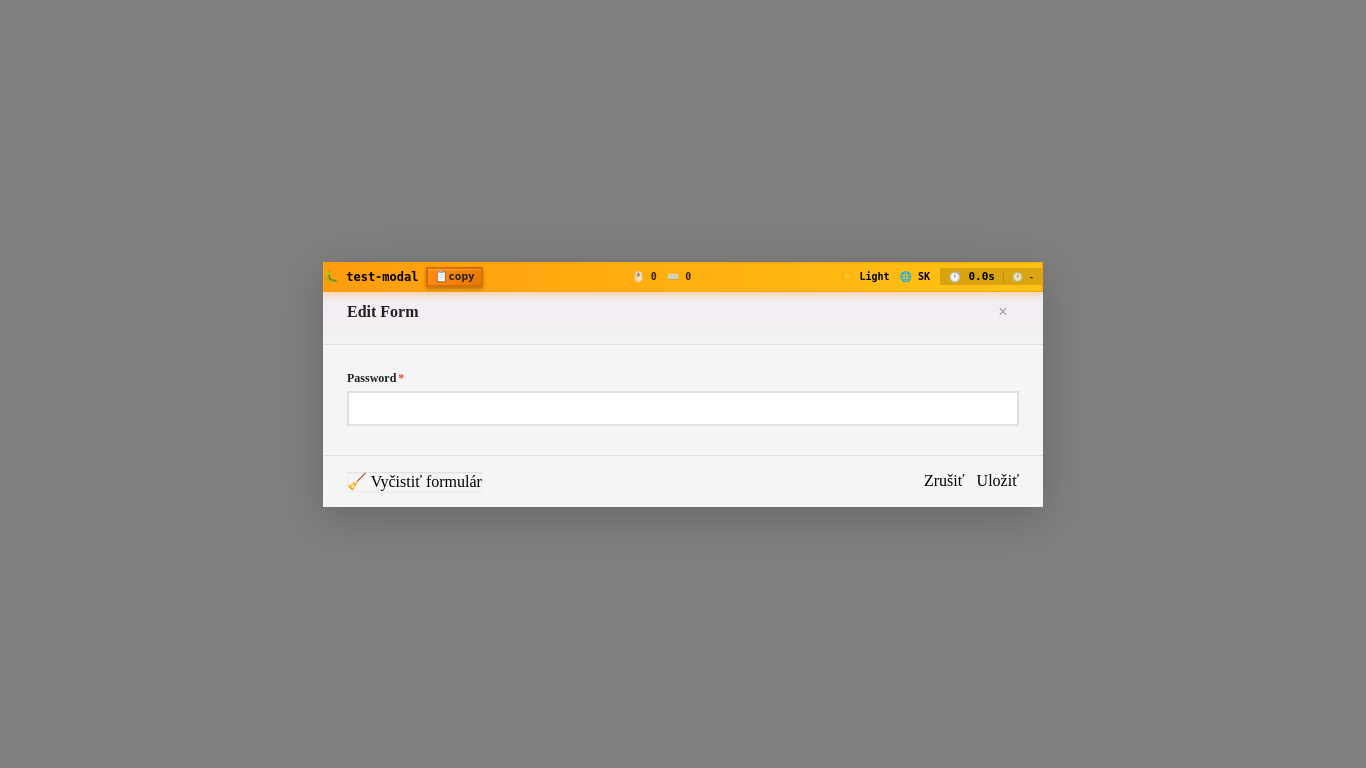
Test case: SectionEditModal › Validation › Validation error clears when field is corrected
Note: Enter invalid value
Type "short" into the field labelled "Password*".
click(683, 408); type("short")  # box [347,390,1019,426]
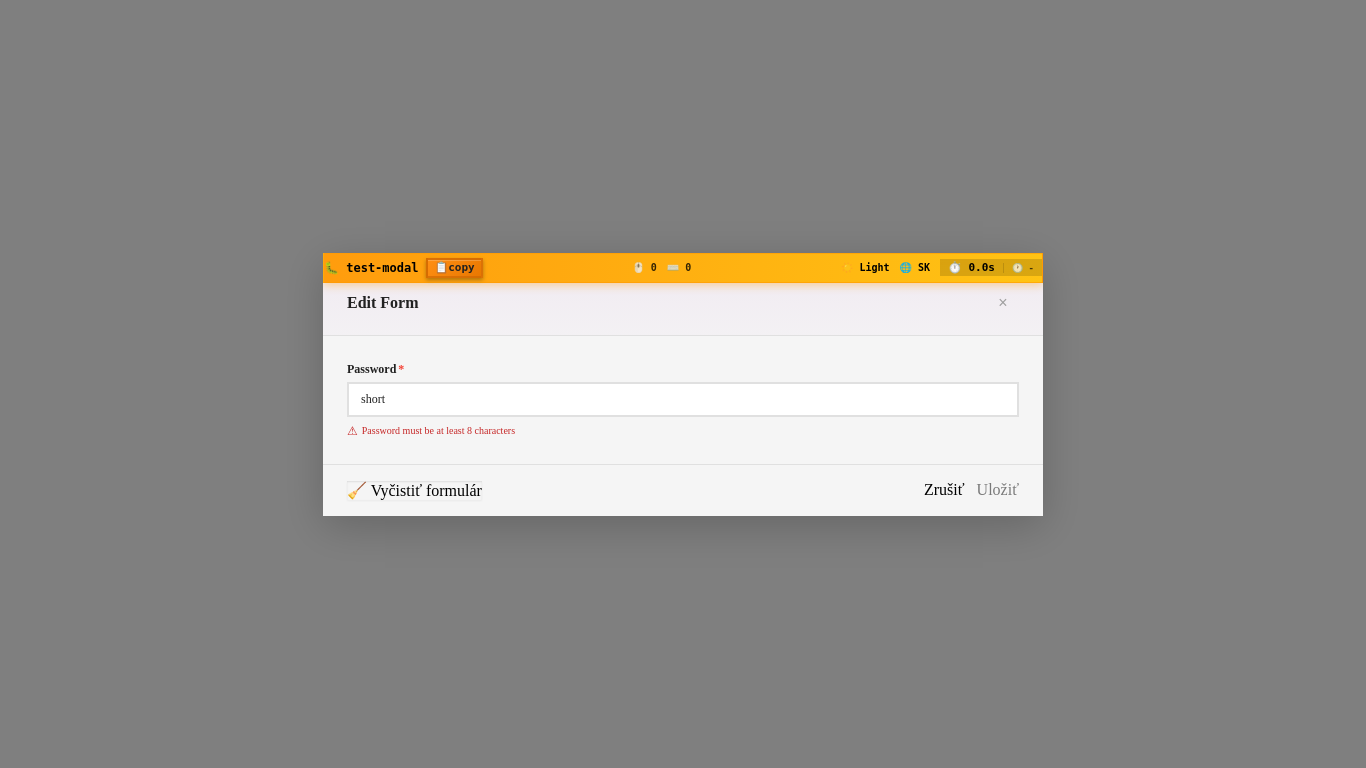
Expected: the text "Password must be at least 8 characters" is shown, [362,425,515,436]
Note: Correct the value
Replace the text in the field labelled "Password*" with "validpassword123" at (683, 399), box [347,382,1019,416]
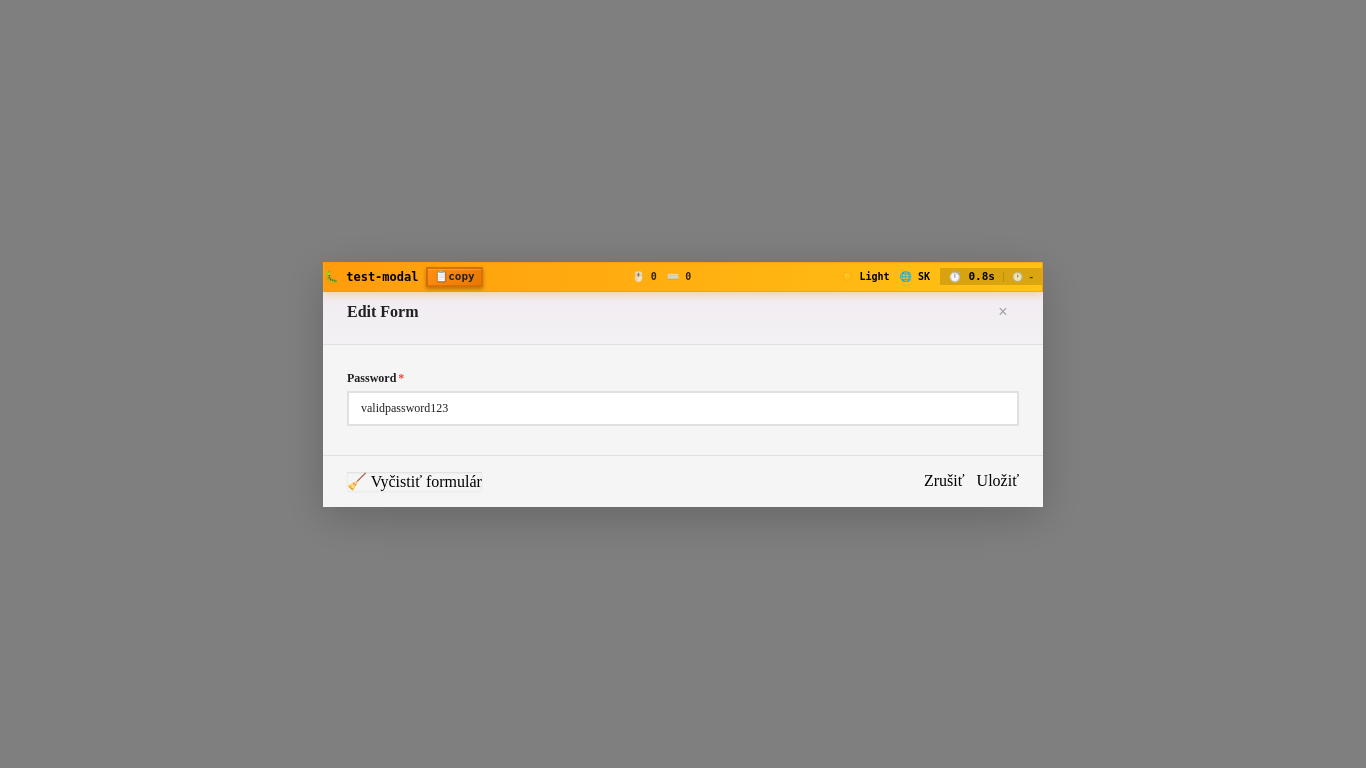
Expected: the text "Password must be at least 8 characters" is gone
